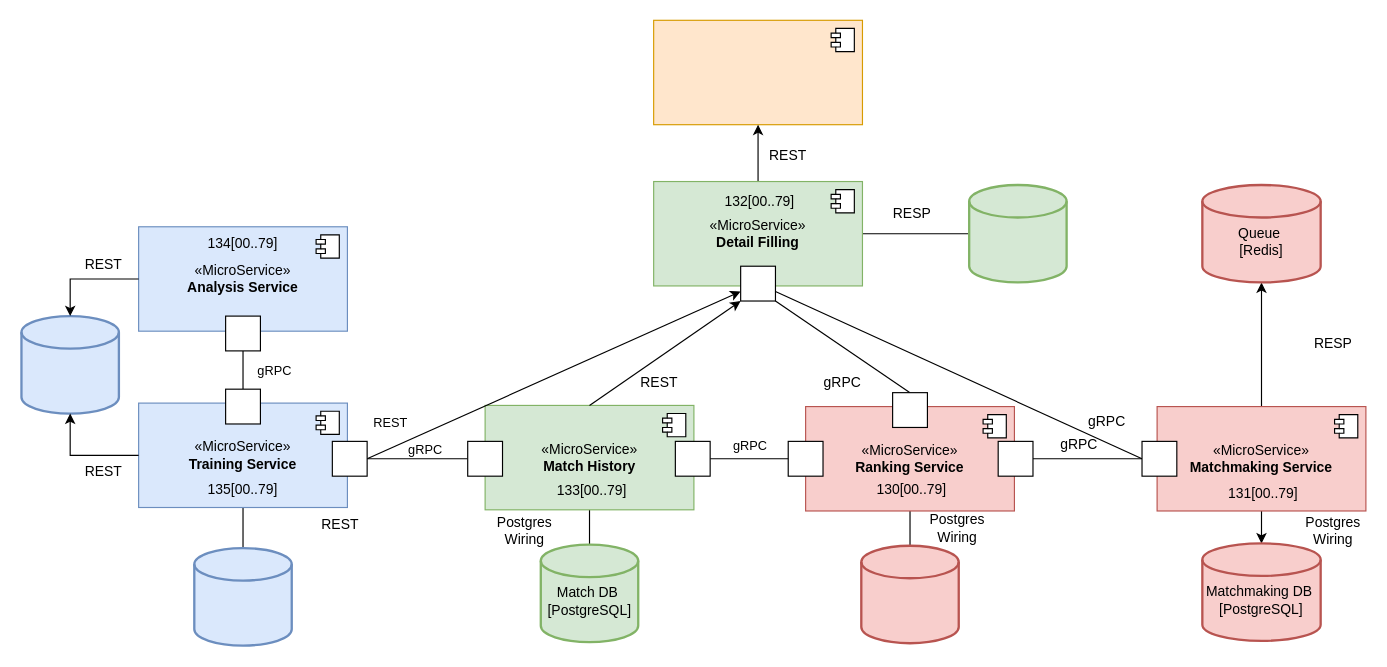
The diagram is 1387 pixels wide and 667 high, and some of its shapes have lost their labels. Each missing label, with the centre of its shape:
API Cache [Redis]: the point at 1017,233
Data DB [BigQuery]: the point at 242,596
Model DB [BigQuery]: the point at 69,364
Ranking DB [PostgreSQL]: the point at 909,594
«ExternalService» Riot API: the point at 757,72
